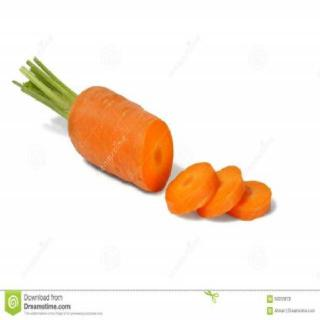carrot: (66, 81, 176, 197)
